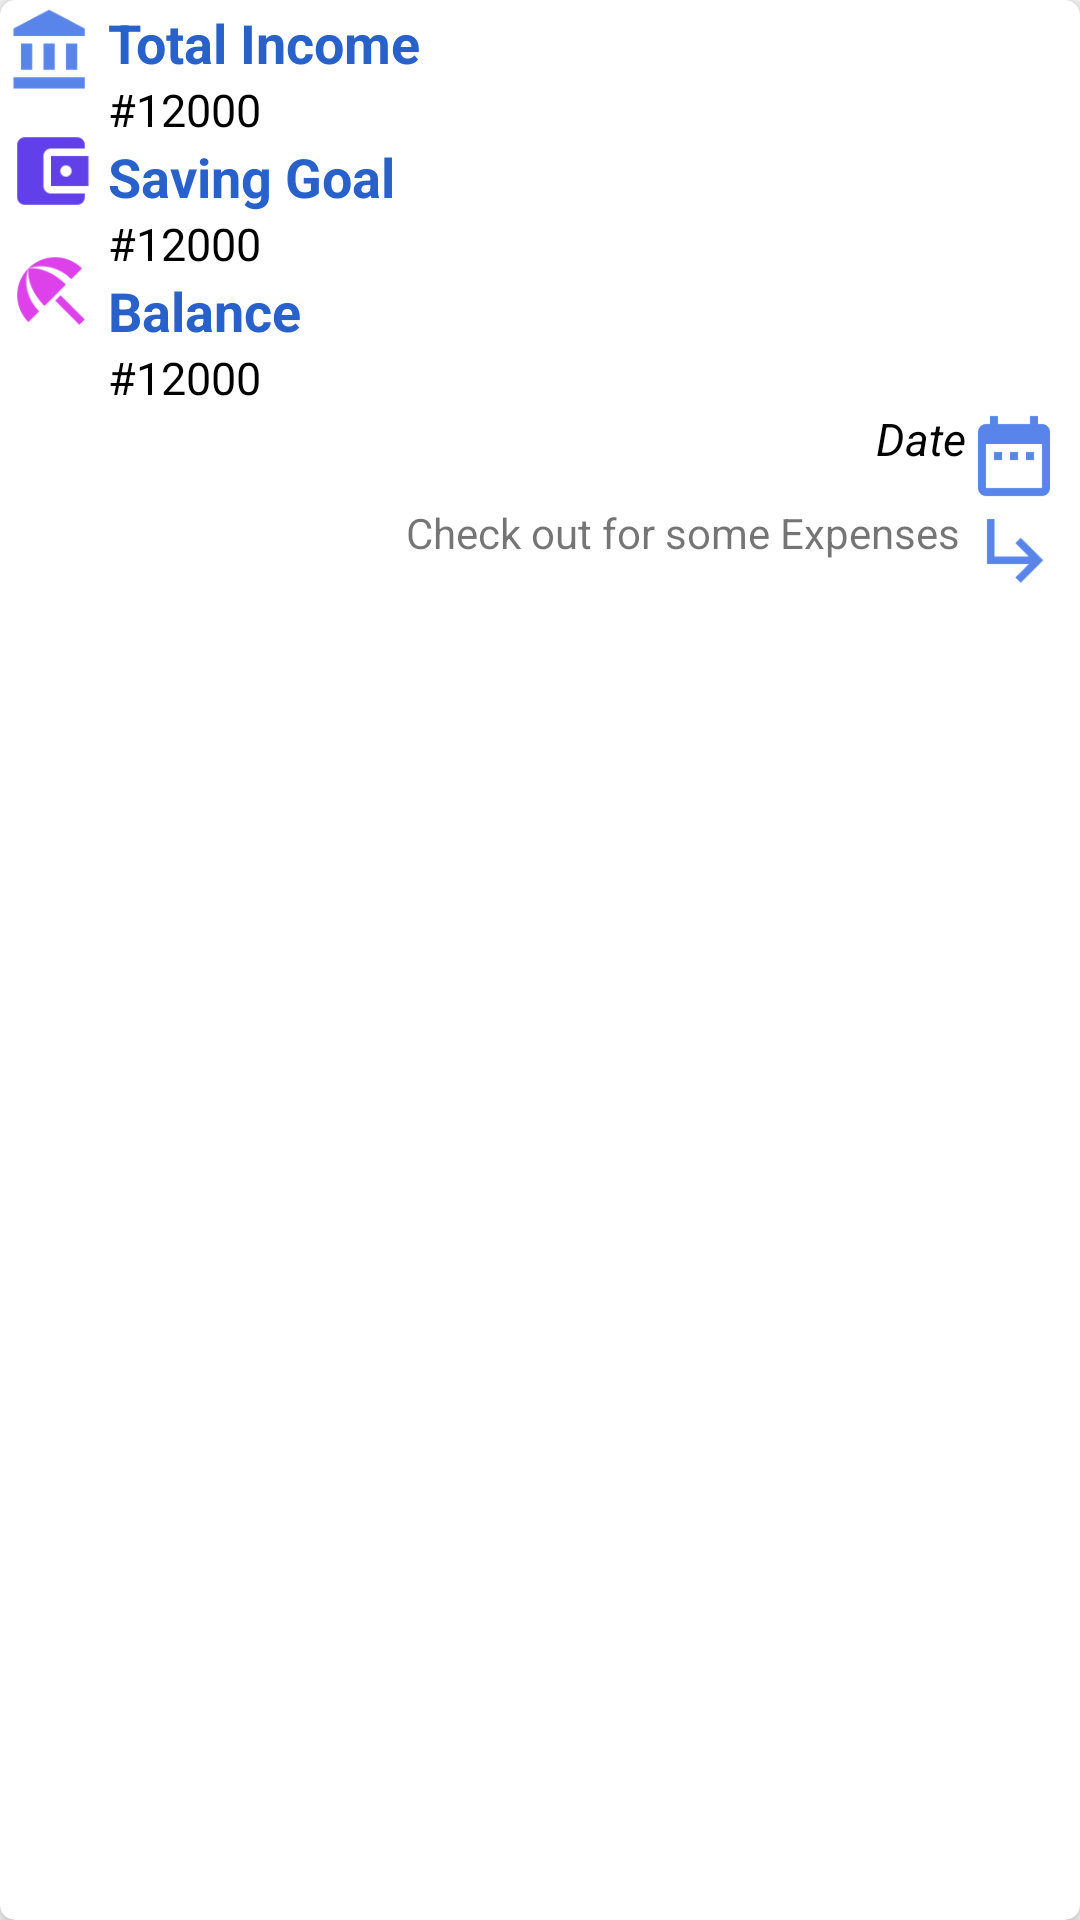

Screen size 1080 × 1920. Icon name, then its box in pixels as (x1, y1, x2, y2):
arror: (987, 519, 1043, 583)
savig: (17, 137, 89, 205)
